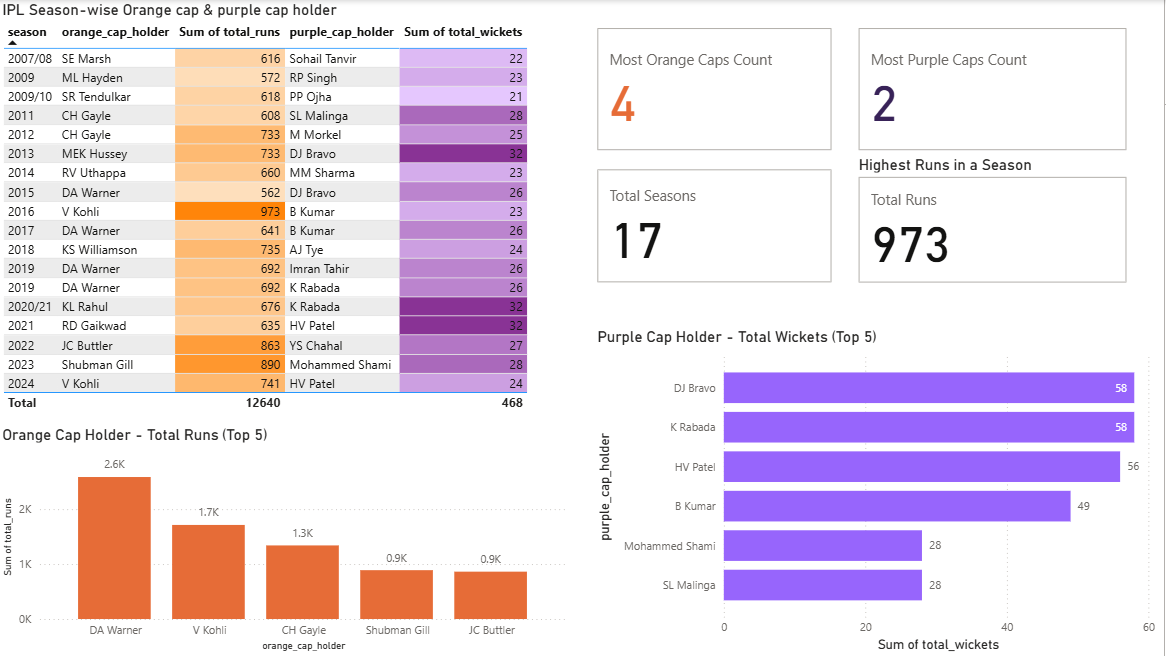

The page's visual inventory and layout, read from the dashboard file:
{"tool":"powerbi","page":{"name":"IPL Season-wise Cap Holders Analysis","canvas":[1280,720],"ordinal":0},"visuals":[{"type":"tableEx","title":"IPL Season-wise Orange cap & purple cap holder","fields":{"Values":["public vw_season_caps.season","public vw_season_caps.orange_cap_holder","Sum(public vw_season_caps.total_runs)","public vw_season_caps.purple_cap_holder","Sum(public vw_season_caps.total_wickets)"]},"box":[0,0,629.8,466.6],"z":0},{"type":"cardVisual","fields":{"Data":["Count(public vw_season_caps.season)"]},"box":[653.2,181.1,267.6,134.5],"z":1000},{"type":"cardVisual","title":"Highest Runs in a Season","fields":{"Data":["Max(public vw_season_caps.total_runs)"]},"box":[940,170.2,304.6,145.5],"z":2000},{"type":"cardVisual","fields":{"Data":["public vw_season_caps.Most Orange Caps Count"]},"box":[653.2,26.1,267.6,144.1],"z":3000},{"type":"cardVisual","fields":{"Data":["public vw_season_caps.Most Purple Caps Count"]},"box":[940,26.1,304.6,144.1],"z":4000},{"type":"clusteredBarChart","title":"Purple Cap Holder - Total Wickets (Top 5)","fields":{"Category":["public vw_season_caps.purple_cap_holder"],"Y":["Sum(public vw_season_caps.total_wickets)"]},"box":[653.2,359.5,627.1,360.9],"z":5000},{"type":"clusteredColumnChart","title":"Orange Cap Holder - Total Runs (Top 5)","fields":{"Category":["public vw_season_caps.orange_cap_holder"],"Y":["Sum(public vw_season_caps.total_runs)"]},"box":[0,467,630,253],"z":6000}]}

Visuals, with their boxes in screenshot pixels (x1, y1, x2, y2), scaled from the page's 1280x720 canvas onto the 1166x656 screenshot:
"IPL Season-wise Orange cap & purple cap holder" tableEx: (x1=0, y1=0, x2=574, y2=425)
cardVisual - Count(public vw_season_caps.season): (x1=595, y1=165, x2=839, y2=288)
"Highest Runs in a Season" cardVisual: (x1=856, y1=155, x2=1134, y2=288)
cardVisual - public vw_season_caps.Most Orange Caps Count: (x1=595, y1=24, x2=839, y2=155)
cardVisual - public vw_season_caps.Most Purple Caps Count: (x1=856, y1=24, x2=1134, y2=155)
"Purple Cap Holder - Total Wickets (Top 5)" clusteredBarChart: (x1=595, y1=328, x2=1165, y2=655)
"Orange Cap Holder - Total Runs (Top 5)" clusteredColumnChart: (x1=0, y1=425, x2=574, y2=655)
